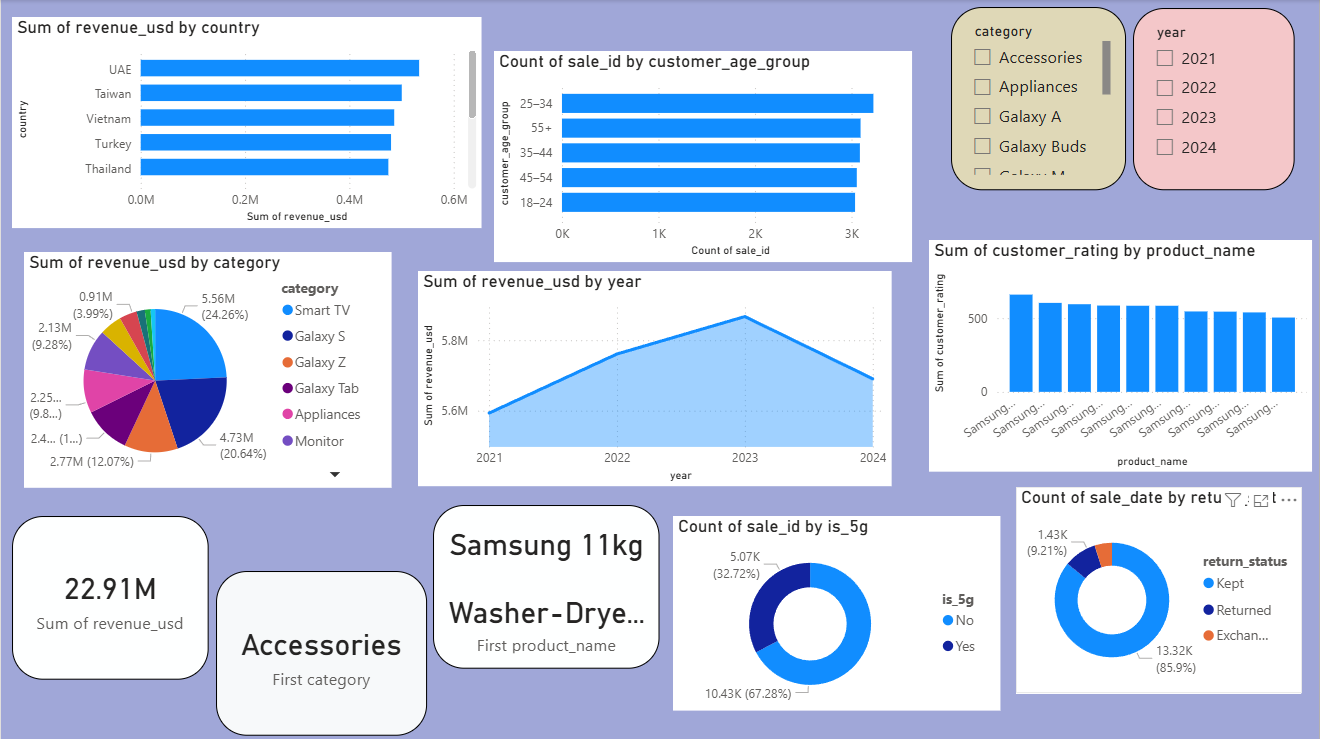

What the dashboard file says about the page in this screenshot:
{"tool":"powerbi","page":{"name":"samsung_sales_data_analysis","canvas":[1280,720],"ordinal":0},"visuals":[{"type":"barChart","fields":{"Category":["samsung_global_sales_dataset.country"],"Y":["Sum(samsung_global_sales_dataset.revenue_usd)"]},"box":[11,17,455.9,204.5],"z":0},{"type":"pieChart","fields":{"Y":["Sum(samsung_global_sales_dataset.revenue_usd)"],"Category":["samsung_global_sales_dataset.category"]},"box":[22,244.8,356.7,228.8],"z":1000},{"type":"barChart","fields":{"Y":["CountNonNull(samsung_global_sales_dataset.sale_id)"],"Category":["samsung_global_sales_dataset.customer_age_group"]},"box":[478.9,49.9,406,204.5],"z":2000},{"type":"areaChart","fields":{"Y":["Sum(samsung_global_sales_dataset.revenue_usd)"],"Category":["samsung_global_sales_dataset.year"]},"box":[404.7,262.8,459.6,208.8],"z":3000},{"type":"donutChart","fields":{"Category":["samsung_global_sales_dataset.is_5g"],"Y":["CountNonNull(samsung_global_sales_dataset.sale_id)"]},"box":[652.5,500.8,318.3,188.6],"z":4000},{"type":"clusteredColumnChart","fields":{"Category":["samsung_global_sales_dataset.product_name"],"Y":["Sum(samsung_global_sales_dataset.customer_rating)"]},"box":[900.9,233.5,372.1,225.5],"z":5000},{"type":"card","fields":{"Values":["Sum(samsung_global_sales_dataset.revenue_usd)"]},"box":[11,500.8,190.6,158.6],"z":6000},{"type":"card","fields":{"Values":["Min(samsung_global_sales_dataset.category)"]},"box":[208.5,554.7,204.5,159.6],"z":7000},{"type":"card","fields":{"Values":["Min(samsung_global_sales_dataset.product_name)"]},"box":[420,490.8,220.5,158.6],"z":8000},{"type":"donutChart","fields":{"Category":["samsung_global_sales_dataset.return_status"],"Y":["CountNonNull(samsung_global_sales_dataset.sale_date)"]},"box":[985.7,472.9,277.3,200.5],"z":9000},{"type":"slicer","fields":{"Values":["samsung_global_sales_dataset.category"]},"box":[922.3,7,169.9,177.9],"z":10000},{"type":"slicer","fields":{"Values":["samsung_global_sales_dataset.year"]},"box":[1099.4,8,156.6,176.6],"z":11000}]}

Visuals, with their boxes in screenshot pixels (x1, y1, x2, y2), scaled from the page's 1280x720 canvas onto the 1320x739 screenshot:
barChart - samsung_global_sales_dataset.country x Sum(samsung_global_sales_dataset.revenue_usd): region(11, 17, 481, 227)
pieChart - Sum(samsung_global_sales_dataset.revenue_usd) x samsung_global_sales_dataset.category: region(23, 251, 391, 486)
barChart - CountNonNull(samsung_global_sales_dataset.sale_id) x samsung_global_sales_dataset.customer_age_group: region(494, 51, 913, 261)
areaChart - Sum(samsung_global_sales_dataset.revenue_usd) x samsung_global_sales_dataset.year: region(417, 270, 891, 484)
donutChart - samsung_global_sales_dataset.is_5g x CountNonNull(samsung_global_sales_dataset.sale_id): region(673, 514, 1001, 708)
clusteredColumnChart - samsung_global_sales_dataset.product_name x Sum(samsung_global_sales_dataset.customer_rating): region(929, 240, 1313, 471)
card - Sum(samsung_global_sales_dataset.revenue_usd): region(11, 514, 208, 677)
card - Min(samsung_global_sales_dataset.category): region(215, 569, 426, 733)
card - Min(samsung_global_sales_dataset.product_name): region(433, 504, 661, 667)
donutChart - samsung_global_sales_dataset.return_status x CountNonNull(samsung_global_sales_dataset.sale_date): region(1017, 485, 1302, 691)
slicer - samsung_global_sales_dataset.category: region(951, 7, 1126, 190)
slicer - samsung_global_sales_dataset.year: region(1134, 8, 1295, 189)
